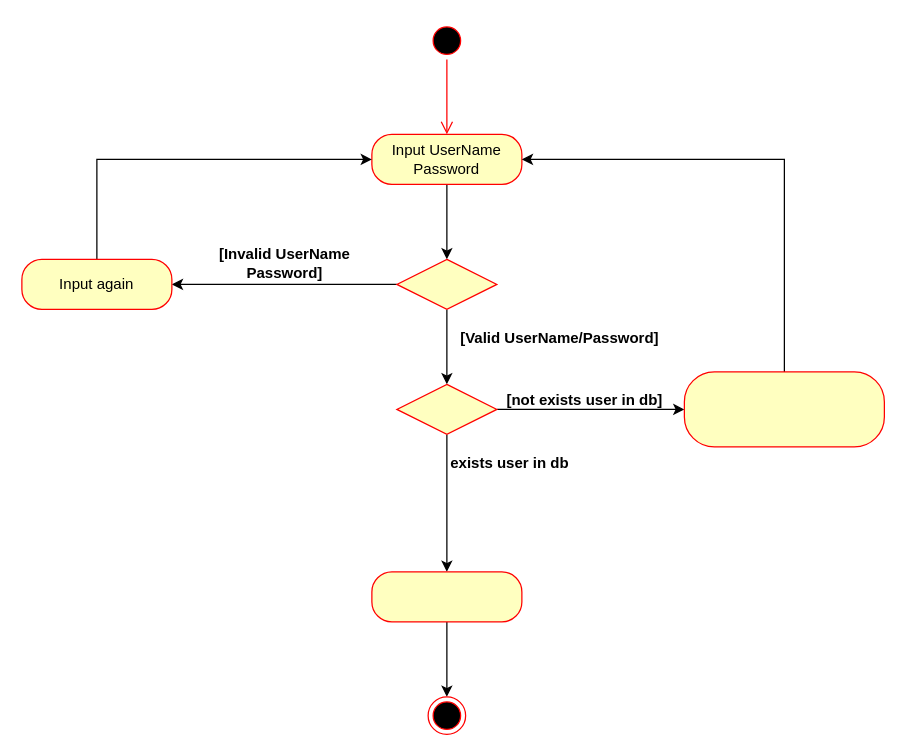
This 906x756 diagram has some shape labels left out. Here are the shapes that lost their labels. From the top down, the centre of each, then its label:
the point at 783,409: Show message "Invalid Username/Password"
the point at 446,596: show order magement
